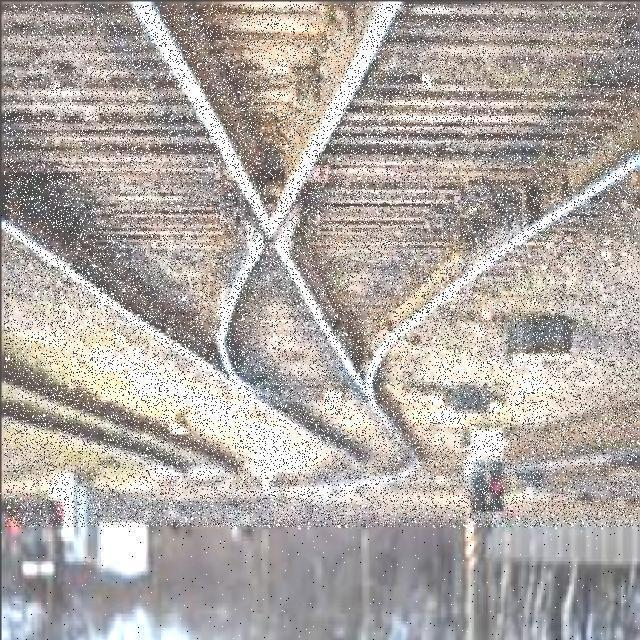rail: (5, 5, 640, 528)
